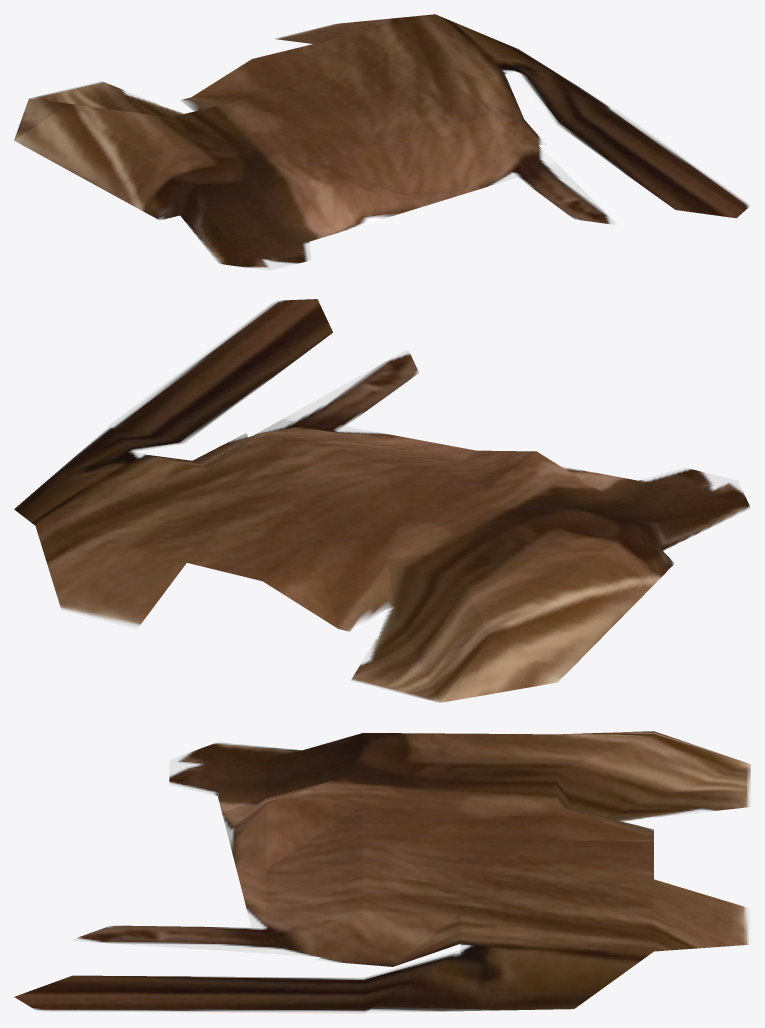
Rendered from clothespile.glb.
3 renders of one model, top to bottom at view 1: azimuth 30°, elevation 25°; view 2: azimuth 150°, elevation 25°; view 3: azimuth 270°, elevation 25°, orthographic. The views are drawn at different scales.
Parts seen in each view (by area): view 1: clotheshanging.png; view 2: clotheshanging.png; view 3: clotheshanging.png.
Boxes of the visible parts, box(x1,y1,x2,y2) form: clotheshanging.png: box(14, 14, 750, 270); clotheshanging.png: box(14, 299, 750, 702); clotheshanging.png: box(14, 731, 750, 1013).
Bounding box in the file's own units: 5.23 × 0.2755 × 5.72.
Materials: 1 (1 with a texture image).
